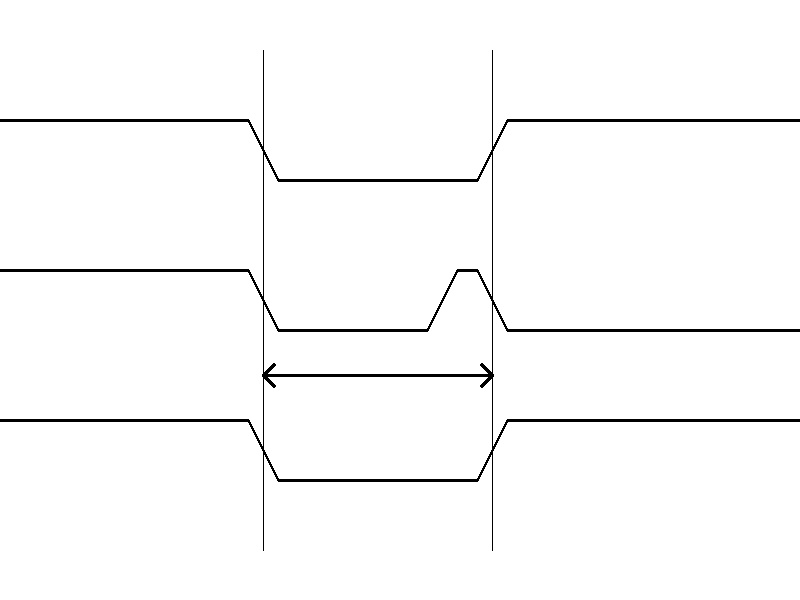double_arrow: (263, 360, 492, 390)
